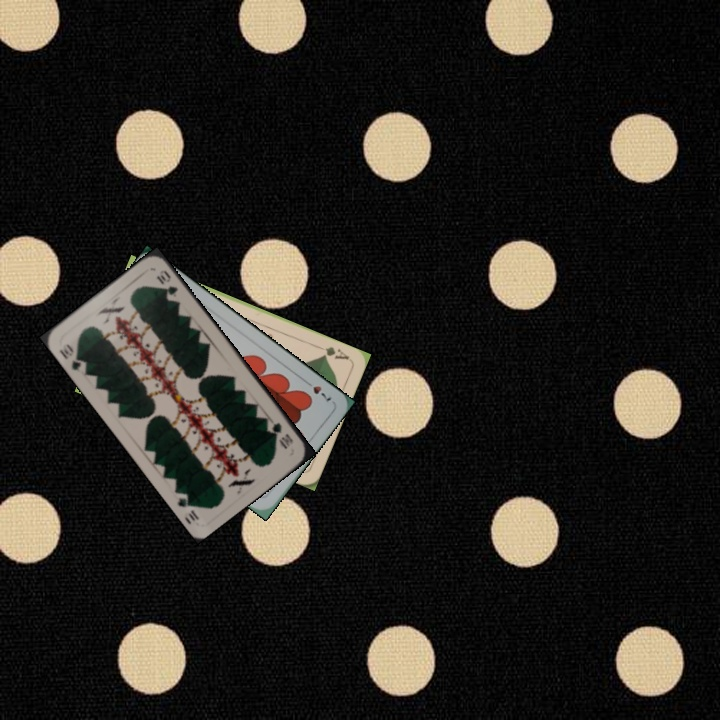G10: (55, 339, 89, 375), (268, 418, 296, 451)
GA: (313, 341, 352, 363)
H7: (300, 376, 335, 405)
